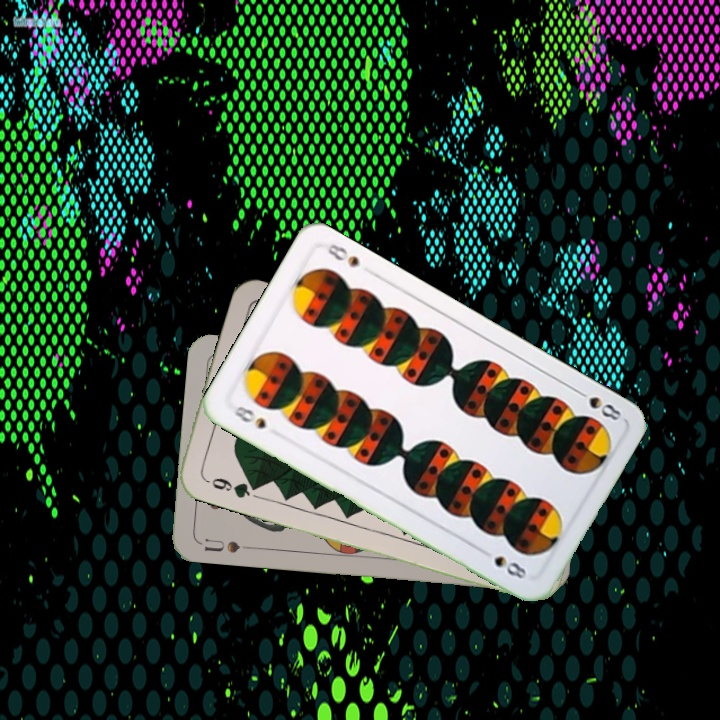G9: (200, 473, 260, 501)
S8: (570, 385, 624, 424), (229, 400, 269, 432)
SU: (200, 534, 255, 555)
